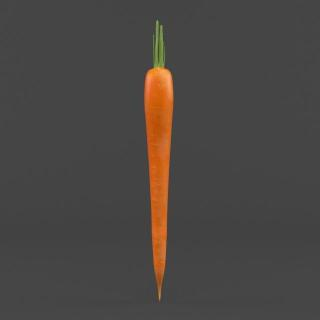carrot: (144, 64, 176, 304)
